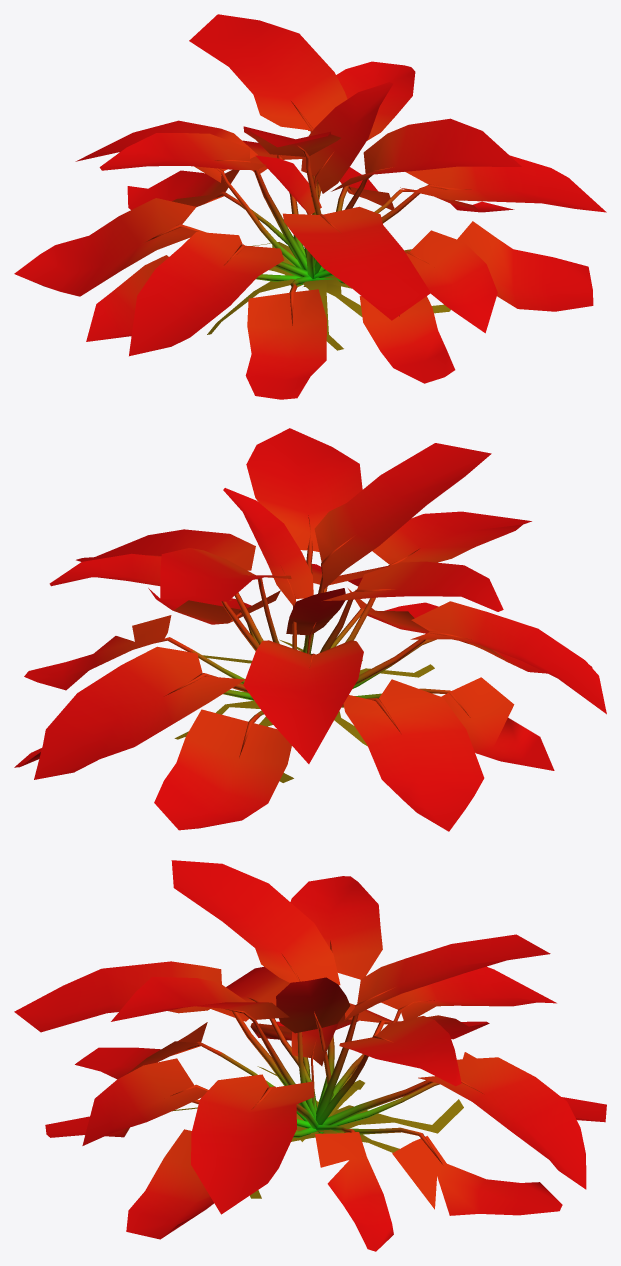
Rendered from Xanadu_LOD2_Var1_siroZ.fbx.
The picture shows the model from 3 angles, top to bottom: view 1: azimuth 30°, elevation 25°; view 2: azimuth 150°, elevation 25°; view 3: azimuth 270°, elevation 25°; orthographic projection. The views are drawn at different scales.
Parts seen in each view (by area): view 1: _150f_Var1_LOD2; view 2: _150f_Var1_LOD2; view 3: _150f_Var1_LOD2.
Boxes of the visible parts, x1,y1,x2,y2 form: _150f_Var1_LOD2: (14,14,606,399); _150f_Var1_LOD2: (14,428,606,831); _150f_Var1_LOD2: (14,860,606,1251).
Size of the model in its own units: 66.2 by 28.93 by 68.07.
